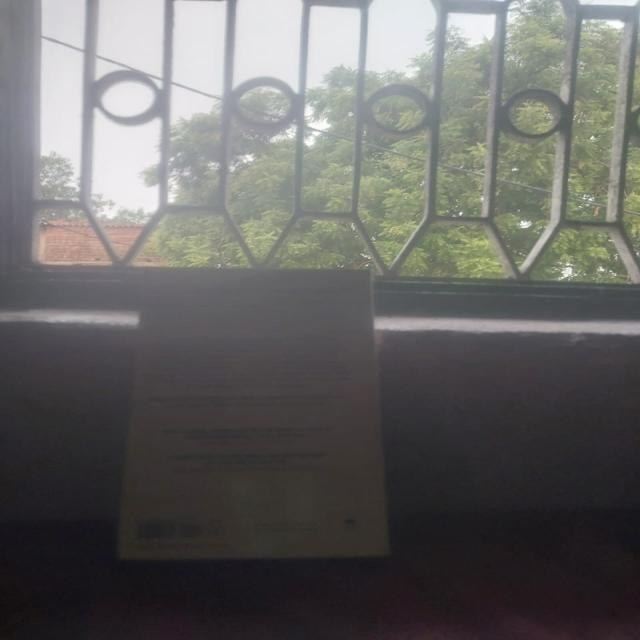Book: (123, 260, 385, 564)
